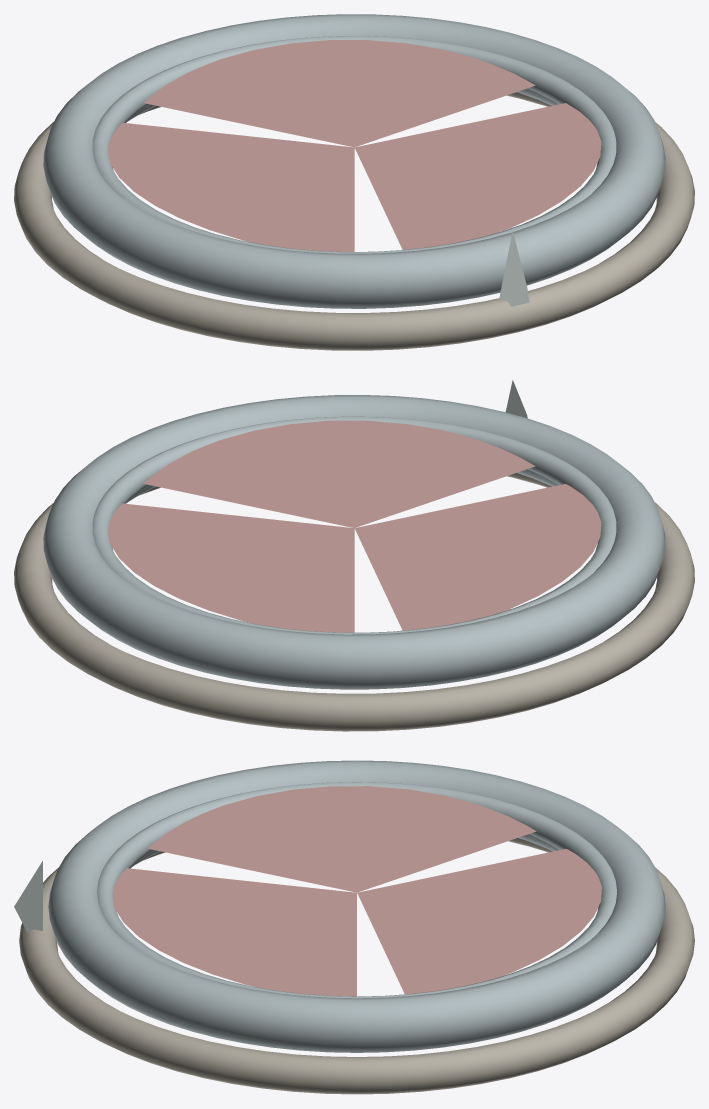
Rendered from prosthetic_valve.glb.
3 renders of one model, top to bottom at view 1: azimuth 30°, elevation 25°; view 2: azimuth 150°, elevation 25°; view 3: azimuth 270°, elevation 25°, orthographic.
Parts seen in each view (by area): view 1: ValveRing, SutureCuff, Leaflet_3, Leaflet_1, Leaflet_2, LeafletSeat, FlowOrientationKey; view 2: ValveRing, SutureCuff, Leaflet_1, Leaflet_2, Leaflet_3, LeafletSeat; view 3: ValveRing, SutureCuff, Leaflet_2, Leaflet_3, Leaflet_1, LeafletSeat, FlowOrientationKey.
Boxes of the visible parts, left/top/right/bottom form: ValveRing: left=43, top=14, right=665, bottom=308; SutureCuff: left=14, top=92, right=694, bottom=350; Leaflet_3: left=144, top=40, right=535, bottom=147; Leaflet_1: left=354, top=103, right=601, bottom=249; Leaflet_2: left=108, top=122, right=354, bottom=251; LeafletSeat: left=92, top=36, right=616, bottom=253; FlowOrientationKey: left=499, top=231, right=529, bottom=306; ValveRing: left=43, top=395, right=665, bottom=689; SutureCuff: left=14, top=473, right=694, bottom=731; Leaflet_1: left=143, top=420, right=535, bottom=527; Leaflet_2: left=354, top=484, right=601, bottom=630; Leaflet_3: left=108, top=503, right=354, bottom=632; LeafletSeat: left=92, top=416, right=616, bottom=634; ValveRing: left=48, top=760, right=665, bottom=1052; SutureCuff: left=19, top=838, right=694, bottom=1094; Leaflet_2: left=148, top=786, right=536, bottom=892; Leaflet_3: left=357, top=848, right=601, bottom=994; Leaflet_1: left=112, top=868, right=356, bottom=996; LeafletSeat: left=97, top=782, right=616, bottom=998; FlowOrientationKey: left=14, top=861, right=42, bottom=932.
Size of the model in its own units: 0.0197 by 0.00312 by 0.0198.
